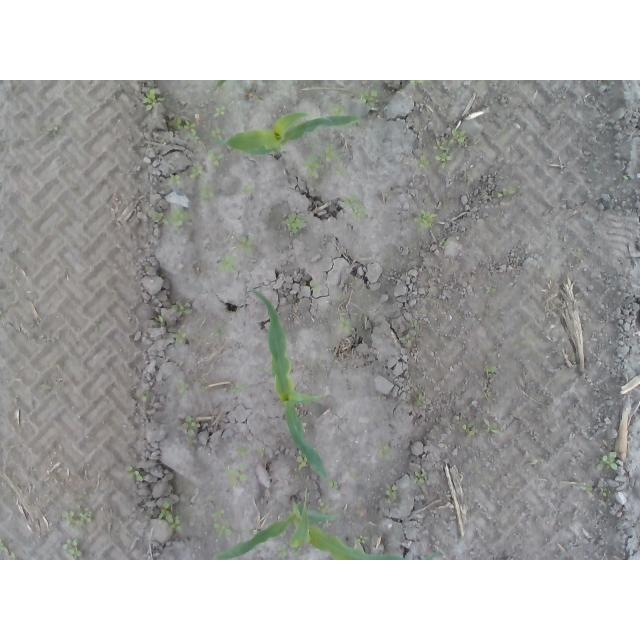Maize: (249, 287, 336, 482), (211, 494, 409, 560), (217, 112, 362, 157)
Weeds: (435, 127, 466, 162), (170, 116, 202, 144), (158, 500, 183, 533), (209, 507, 232, 537), (150, 207, 186, 226), (344, 192, 368, 218), (593, 451, 623, 471), (63, 509, 92, 527), (224, 465, 250, 484), (61, 537, 83, 559), (303, 155, 321, 179), (207, 147, 226, 169), (286, 212, 306, 232), (142, 87, 158, 112), (208, 127, 229, 146), (239, 232, 257, 254), (360, 87, 380, 105), (418, 210, 435, 231), (216, 256, 237, 273), (125, 464, 143, 482), (182, 414, 198, 434), (320, 143, 337, 161), (175, 303, 194, 318), (198, 185, 218, 199), (175, 328, 188, 349), (239, 447, 266, 457), (384, 481, 399, 497), (376, 445, 392, 460), (417, 153, 431, 169), (496, 187, 513, 200), (276, 544, 289, 561), (223, 384, 241, 396), (337, 319, 352, 333), (331, 104, 348, 116), (296, 454, 308, 471), (192, 166, 209, 178), (398, 335, 416, 346), (152, 314, 165, 327), (170, 173, 183, 186), (213, 105, 226, 118), (599, 486, 613, 498), (412, 471, 424, 485), (48, 126, 61, 138), (355, 533, 368, 545), (242, 182, 255, 193), (462, 425, 475, 436), (176, 383, 189, 394), (409, 80, 432, 86), (485, 284, 498, 294), (414, 399, 425, 410), (215, 327, 226, 338), (486, 426, 498, 435), (143, 394, 154, 403), (484, 366, 496, 374), (329, 480, 338, 488), (439, 239, 448, 246), (0, 541, 4, 551)
